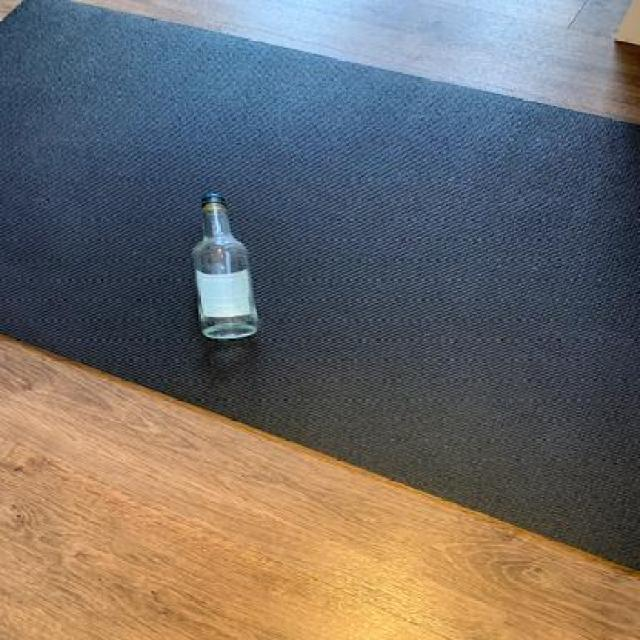trash: (191, 190, 264, 345)
